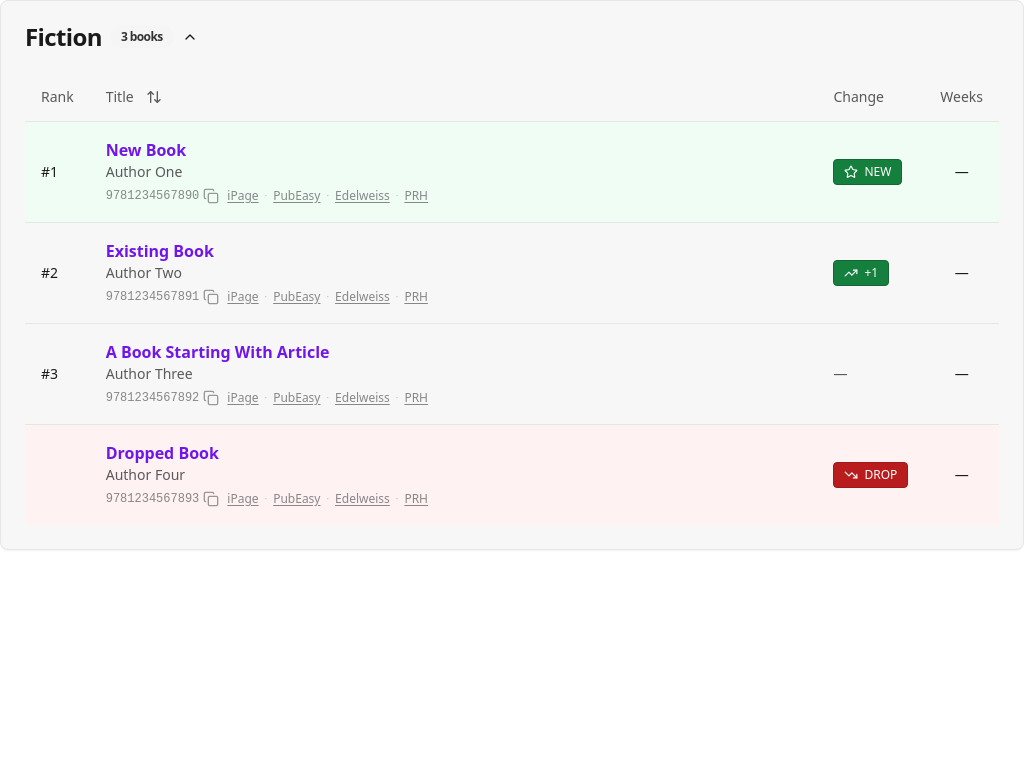
it: BestsellerTable › sorting › should sort by title when sort button is clicked
The image size is (1024, 768).
What coordinates should you click on to do the following:
click the button named "Sort by title"
I would click on:
 (154, 97)
Its box is top-left (142, 85), bottom-right (166, 109).
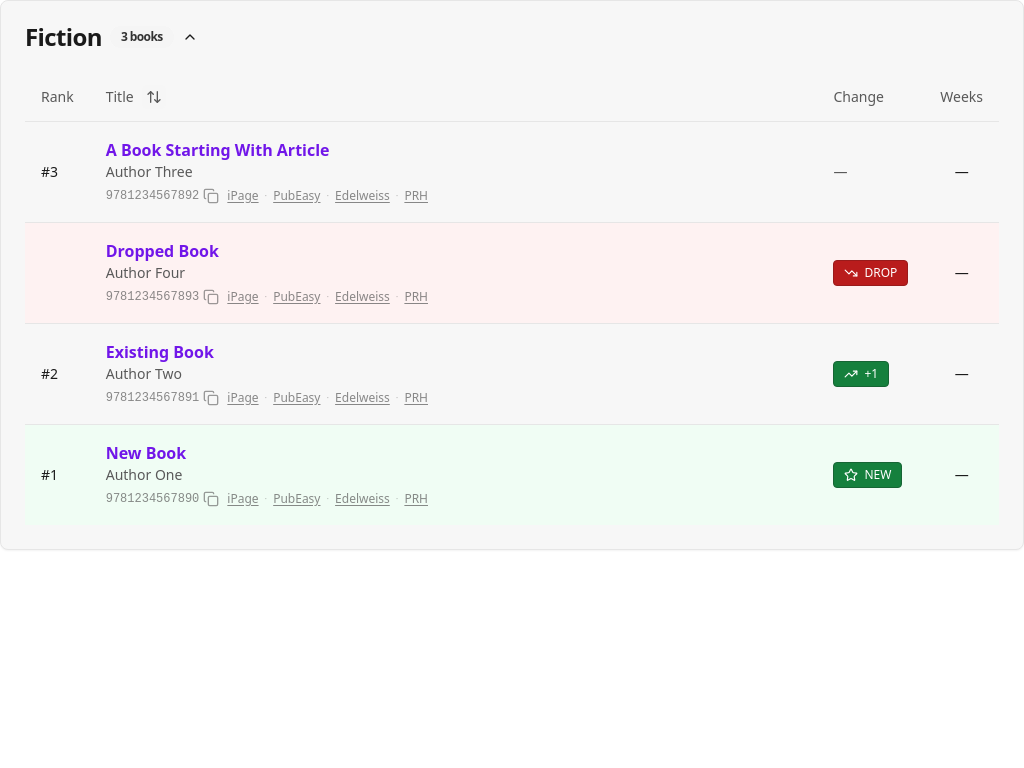
Expected: the row that starts with "A Book Starting With Article" is shown, top-left (106, 138), bottom-right (801, 162)
